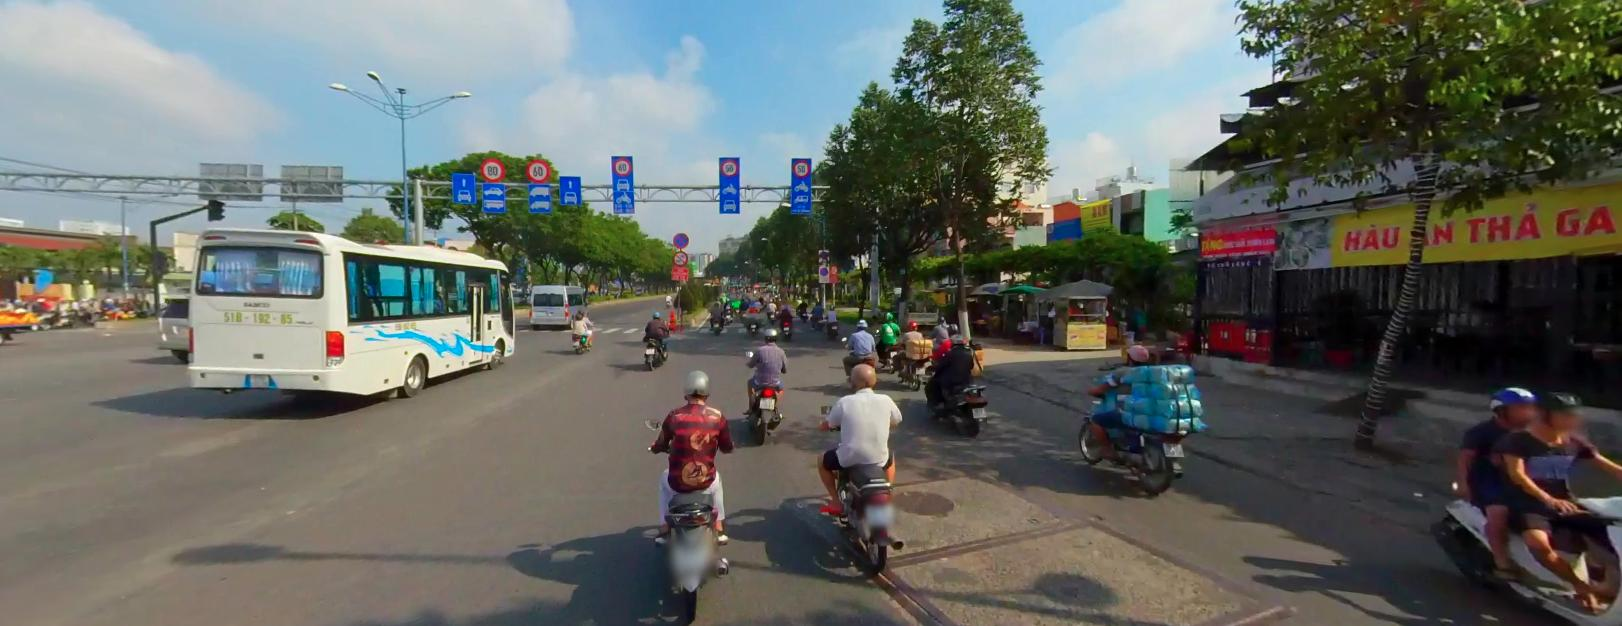Cam con lai: (672, 249, 689, 264), (830, 263, 838, 272)
Cam dung va do: (671, 230, 689, 247), (819, 249, 828, 258), (820, 265, 828, 273)
Gioi han toc do: (479, 157, 506, 181), (525, 158, 549, 181), (612, 155, 633, 174), (793, 157, 811, 175), (721, 157, 738, 175)
